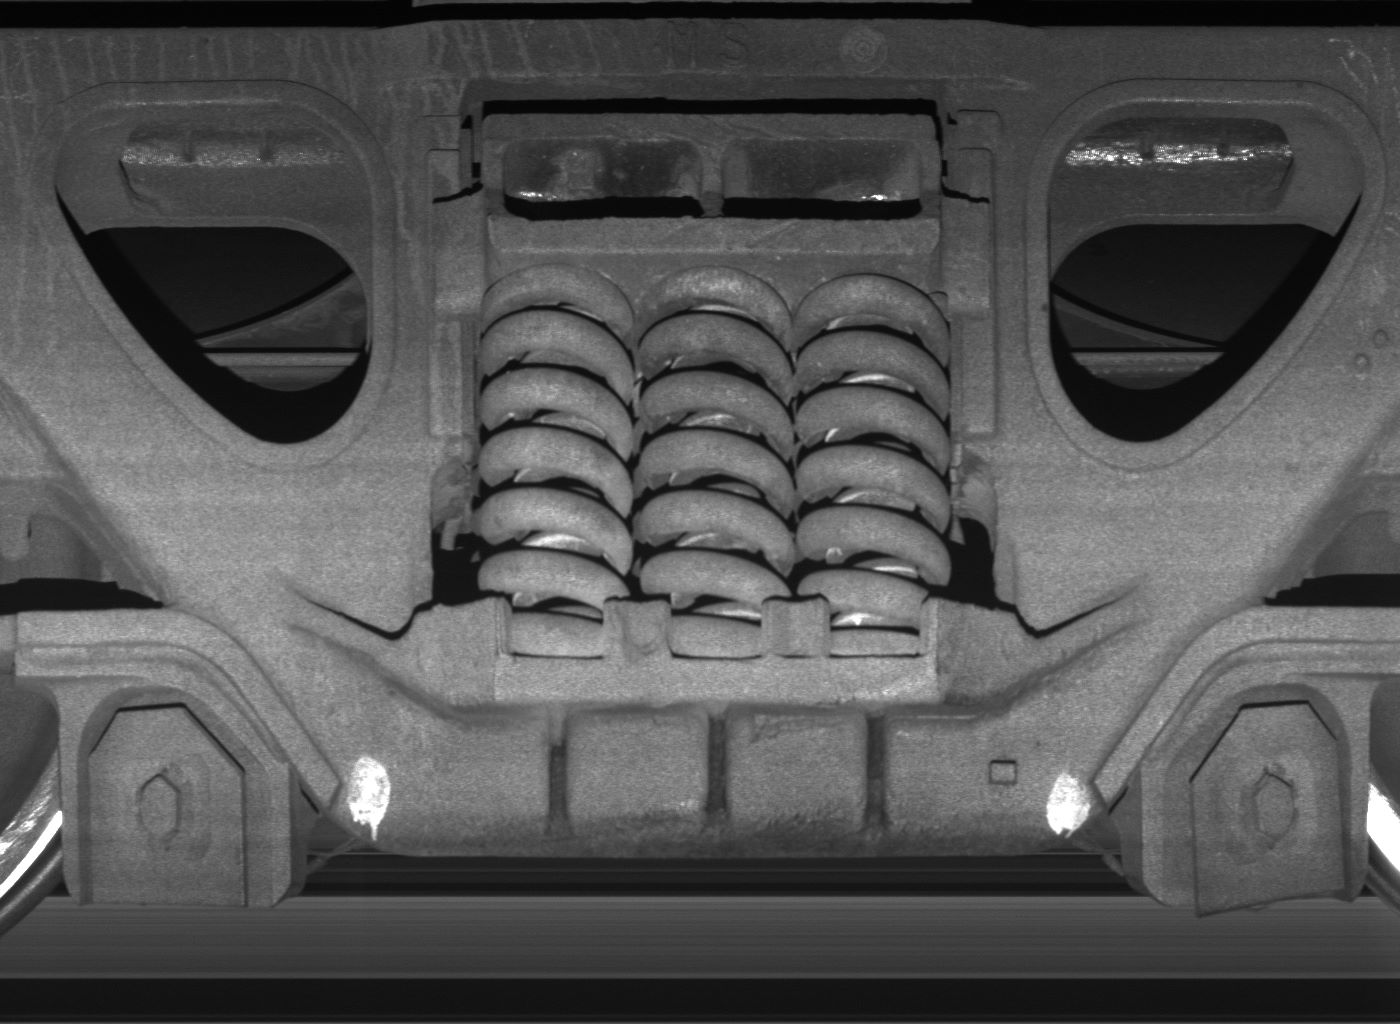locking plate: (1140, 687, 1366, 915)
normal: (60, 686, 289, 904)
